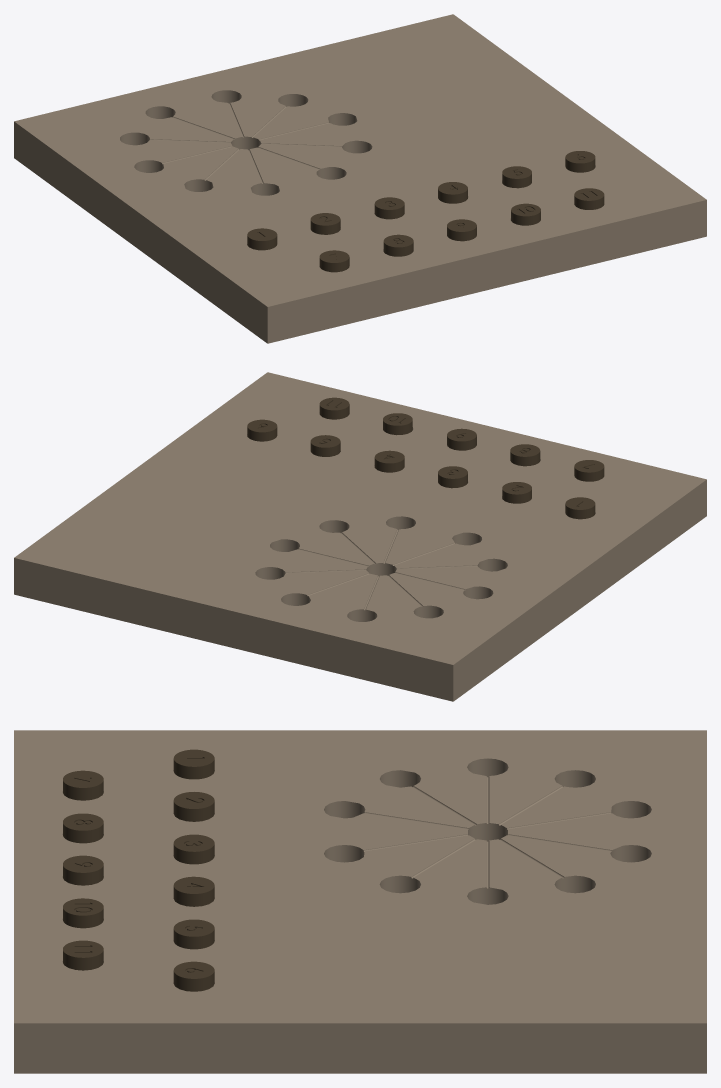
The model's file is Tablero_La_suma_es_la_misma (1).fbx.
The picture shows the model from 3 angles, top to bottom: view 1: azimuth 30°, elevation 25°; view 2: azimuth 150°, elevation 25°; view 3: azimuth 270°, elevation 25°; orthographic projection. The views are drawn at different scales.
Visible parts, largest first — view 1: Tablero La suma es la misma, Pieza 3, Pieza 1, Pieza 7, Pieza 8, Pieza 2, Pieza 11, Pieza 6, Pieza 10, Pieza 9, Pieza 5, Pieza 4; view 2: Tablero La suma es la misma, Pieza 8, Pieza 6, Pieza 11, Pieza 1, Pieza 4, Pieza 5, Pieza 7, Pieza 9, Pieza 10, Pieza 3, Pieza 2; view 3: Tablero La suma es la misma, Pieza 6, Pieza 3, Pieza 4, Pieza 5, Pieza 1, Pieza 2, Pieza 7, Pieza 9, Pieza 8, Pieza 10, Pieza 11.
Part boxes in pixels (<box>): Tablero La suma es la misma: <box>14,14,706,343</box>; Pieza 3: <box>374,197,404,219</box>; Pieza 1: <box>247,228,277,250</box>; Pieza 7: <box>319,250,349,272</box>; Pieza 8: <box>383,234,413,256</box>; Pieza 2: <box>310,213,340,234</box>; Pieza 11: <box>574,188,604,209</box>; Pieza 6: <box>565,151,595,172</box>; Pieza 10: <box>511,203,540,225</box>; Pieza 9: <box>447,219,476,241</box>; Pieza 5: <box>502,166,531,188</box>; Pieza 4: <box>438,182,467,203</box>; Tablero La suma es la misma: <box>14,372,706,701</box>; Pieza 8: <box>510,444,540,466</box>; Pieza 6: <box>247,419,277,441</box>; Pieza 11: <box>319,397,349,419</box>; Pieza 1: <box>565,497,595,519</box>; Pieza 4: <box>374,450,404,472</box>; Pieza 5: <box>310,435,340,456</box>; Pieza 7: <box>574,460,604,481</box>; Pieza 9: <box>447,428,476,450</box>; Pieza 10: <box>383,413,412,435</box>; Pieza 3: <box>438,466,467,488</box>; Pieza 2: <box>502,482,531,503</box>; Tablero La suma es la misma: <box>14,730,706,1073</box>; Pieza 6: <box>173,961,214,991</box>; Pieza 3: <box>173,834,214,864</box>; Pieza 4: <box>173,876,214,906</box>; Pieza 5: <box>173,919,214,949</box>; Pieza 1: <box>173,749,214,779</box>; Pieza 2: <box>173,792,214,821</box>; Pieza 7: <box>63,770,103,800</box>; Pieza 9: <box>63,855,103,885</box>; Pieza 8: <box>63,813,103,843</box>; Pieza 10: <box>63,898,103,928</box>; Pieza 11: <box>63,940,103,970</box>.
Size of the model in its own units: 500 by 500 by 50.
